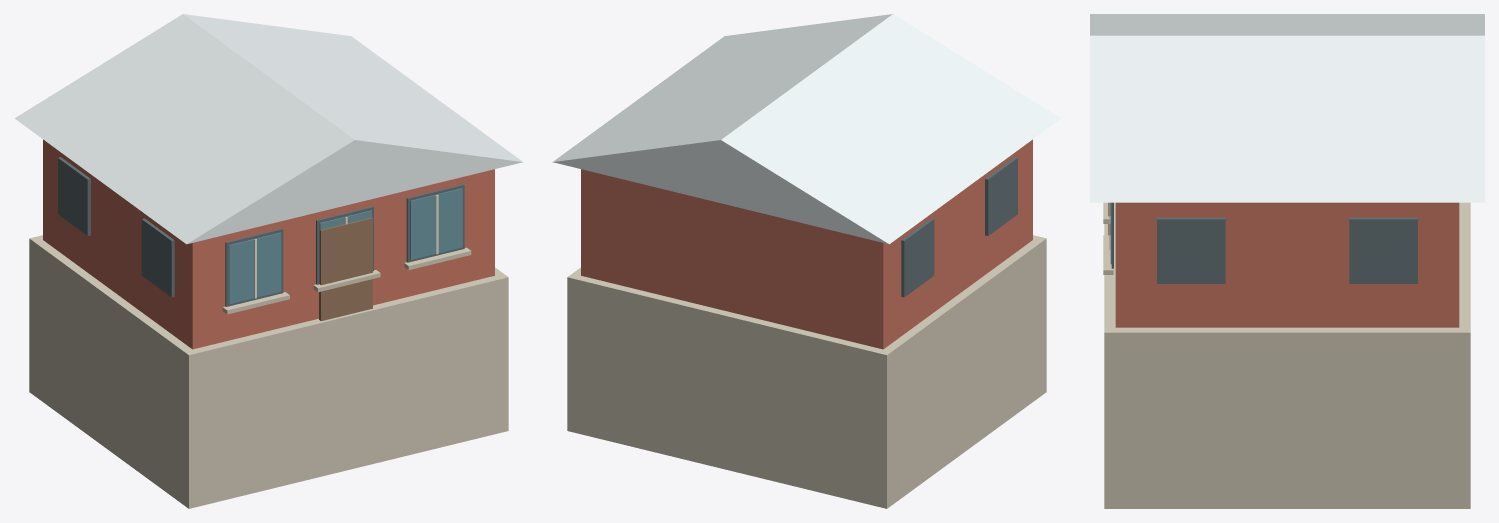
File: polar-0.glb
3 renders of one model, left to right at view 1: azimuth 30°, elevation 25°; view 2: azimuth 150°, elevation 25°; view 3: azimuth 270°, elevation 25°, orthographic. The views are drawn at different scales.
Bounding box in the file's own units: 1.95 × 1.85 × 1.73.
